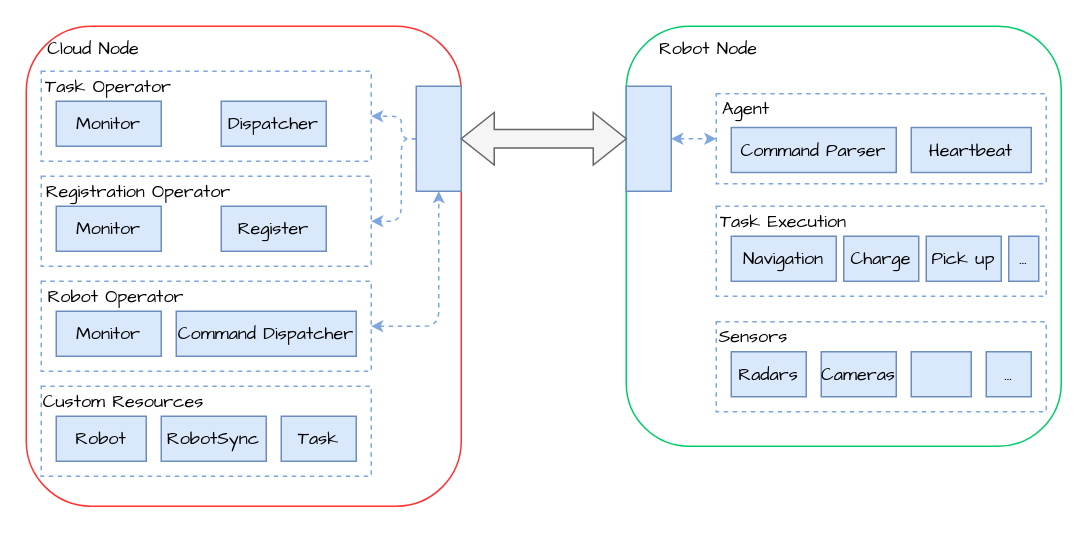
This 1088x533 diagram has some shape labels left out. Here are the shapes that lost their labels. From the top down, the box of each, then its label:
(415, 85, 461, 191): CloudCore
(460, 111, 626, 165): WebSocket
(625, 85, 671, 191): EdgeCore
(910, 350, 971, 397): Laser
